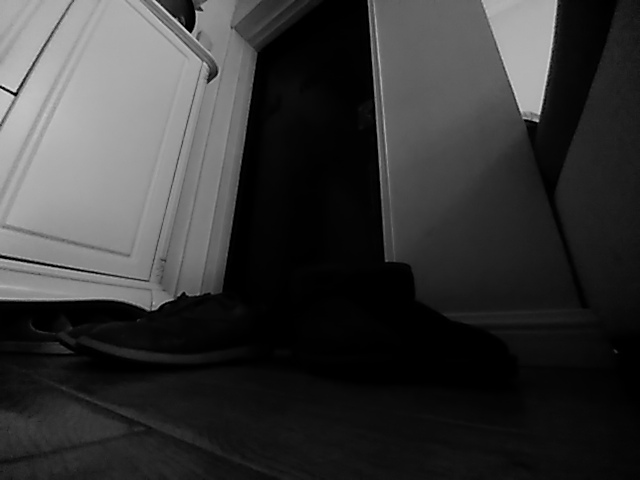shoe: (332, 261, 505, 374), (75, 288, 253, 367)
